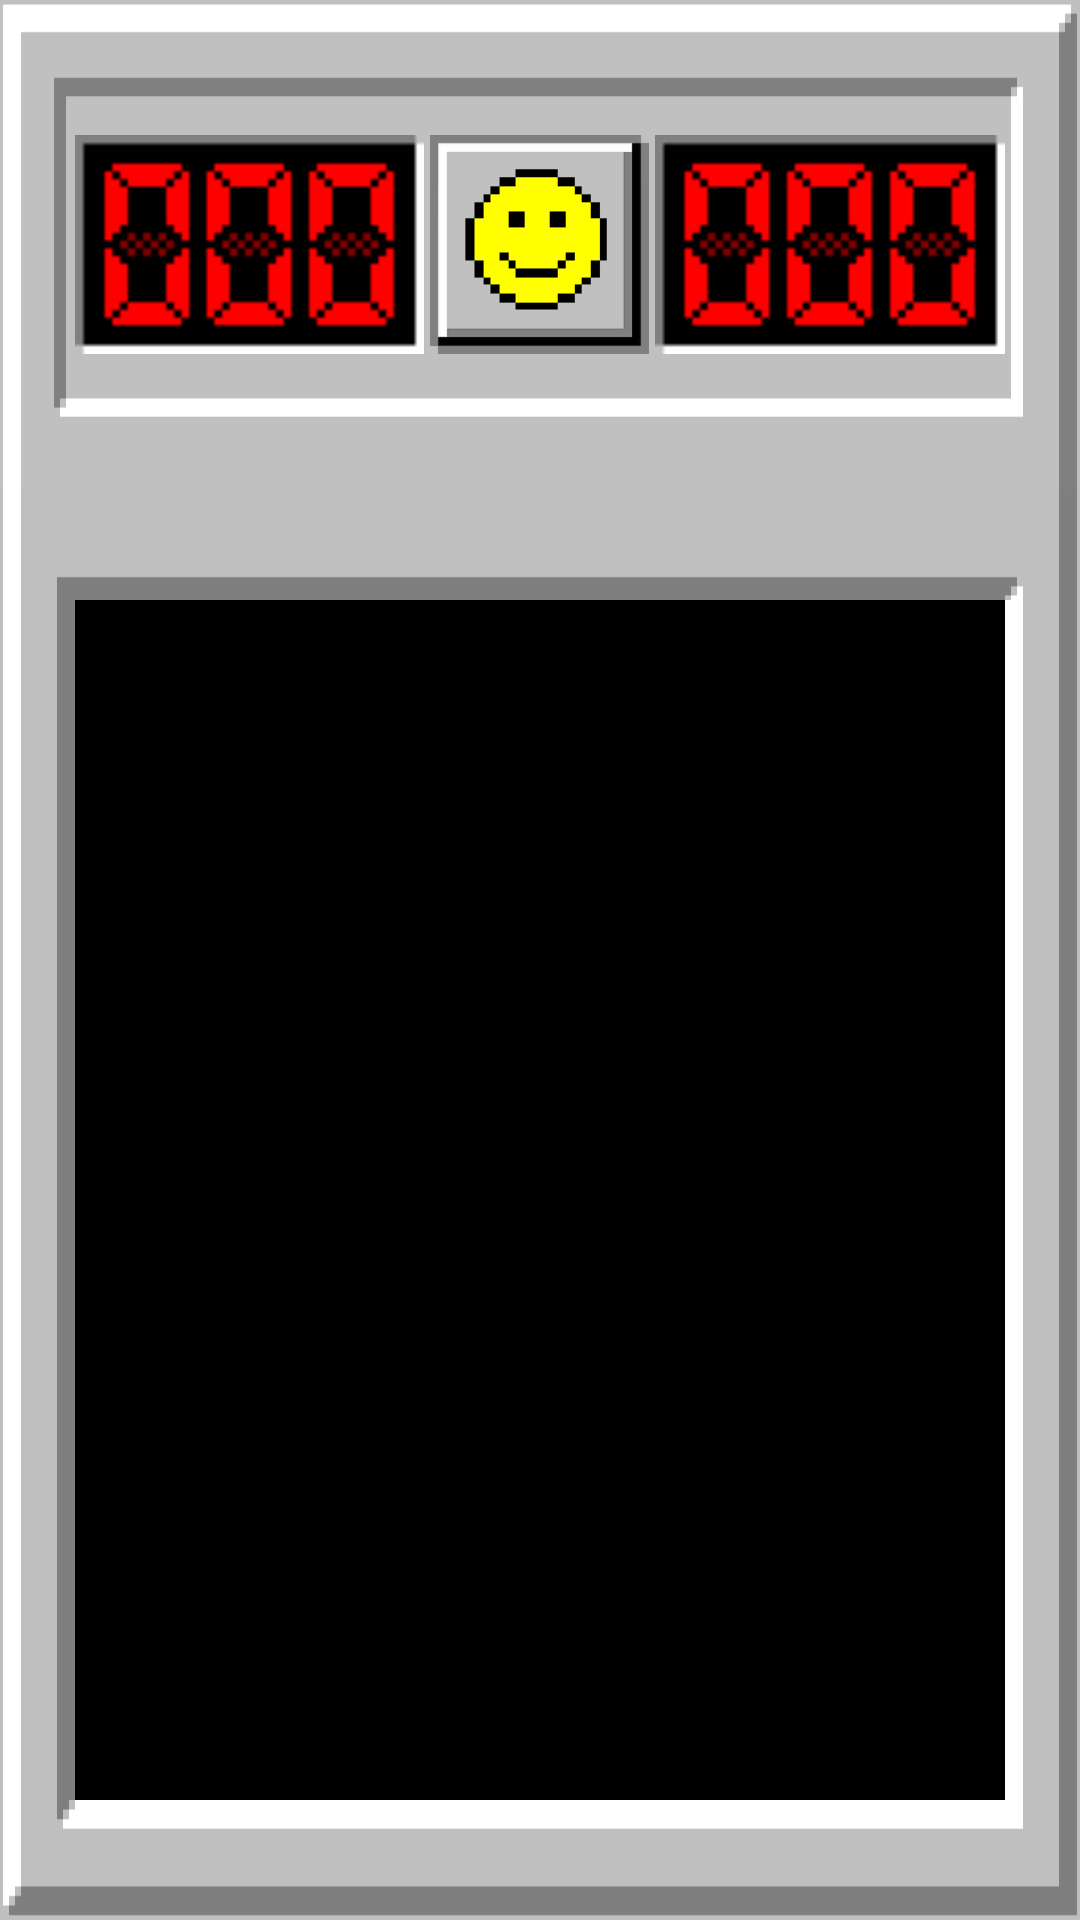

Named icons in this screenshot (1080×1920) and their bounding boxes, (x1, y1, x2, y2):
smile: (430, 135, 649, 354)
